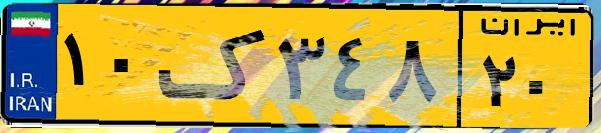0: (525, 38, 570, 115), (110, 28, 158, 98)
1: (57, 26, 110, 100)
2: (475, 38, 525, 113)
3: (270, 28, 330, 110)
4: (330, 28, 385, 110)
8: (385, 28, 445, 110)
ک: (158, 12, 270, 120)
